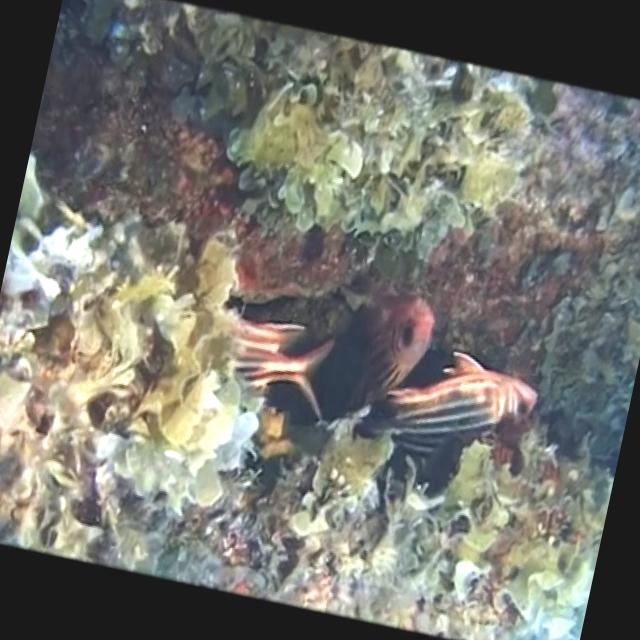Asker Baligi: (0, 0, 640, 640), (367, 337, 550, 478), (293, 264, 437, 438)
